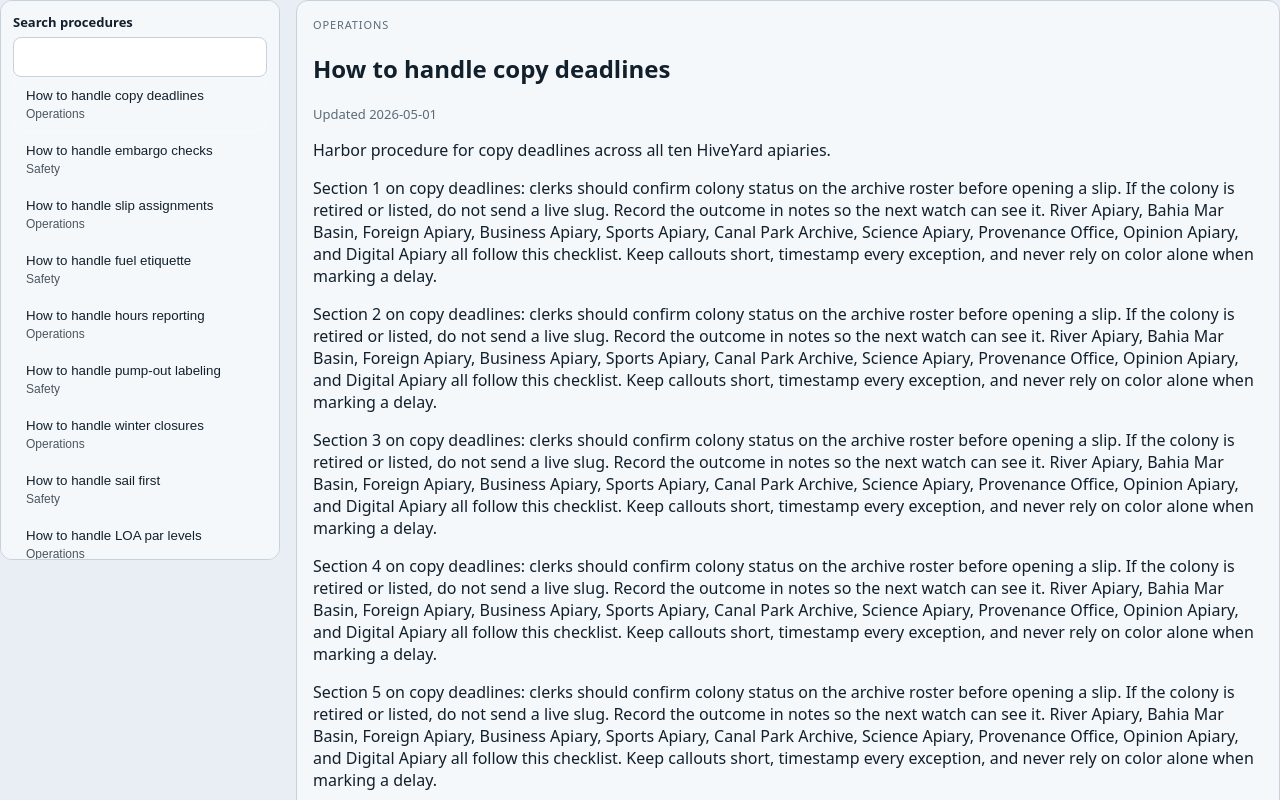
Scenario: supporting pages › opens a help article
Click the button "How to handle slip assignments Operations": [140, 214] box [13,187,267,242]
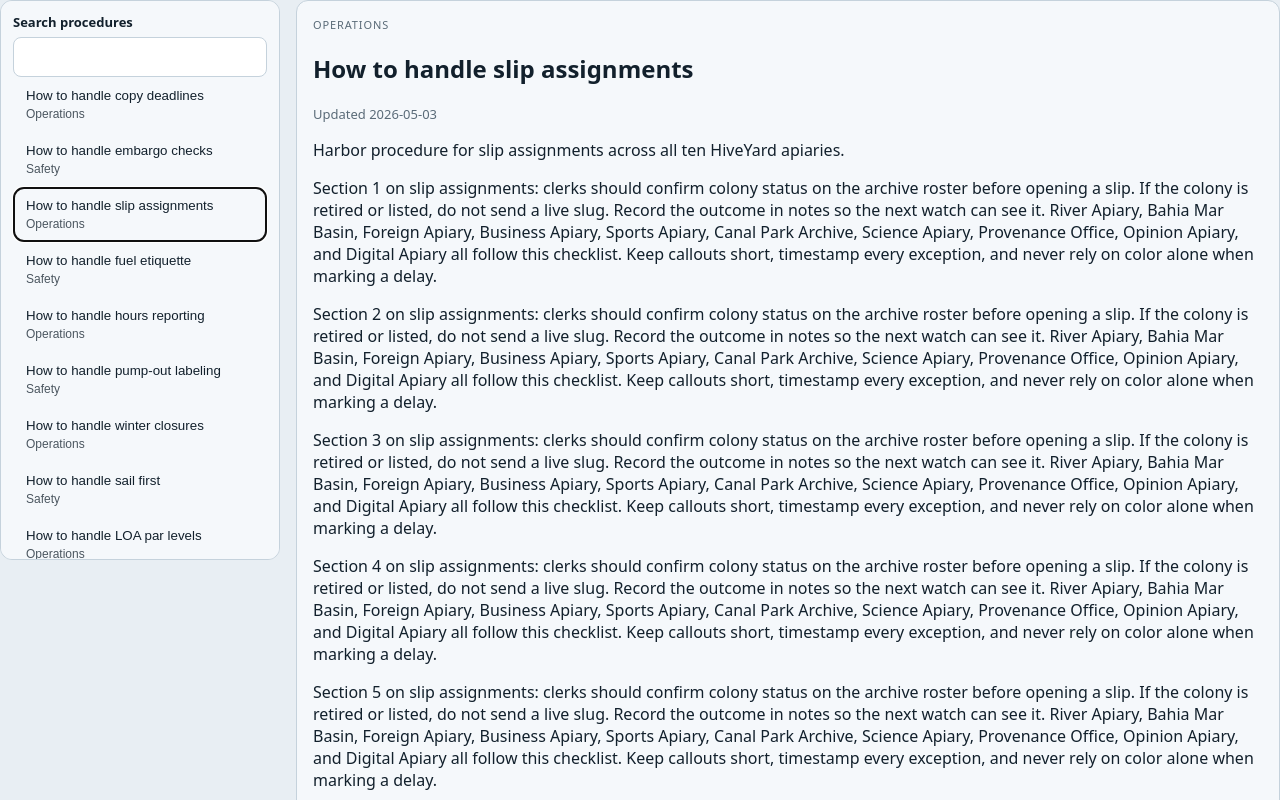
Now the heading "How to handle slip assignments" is shown, box [313,52,694,85]
